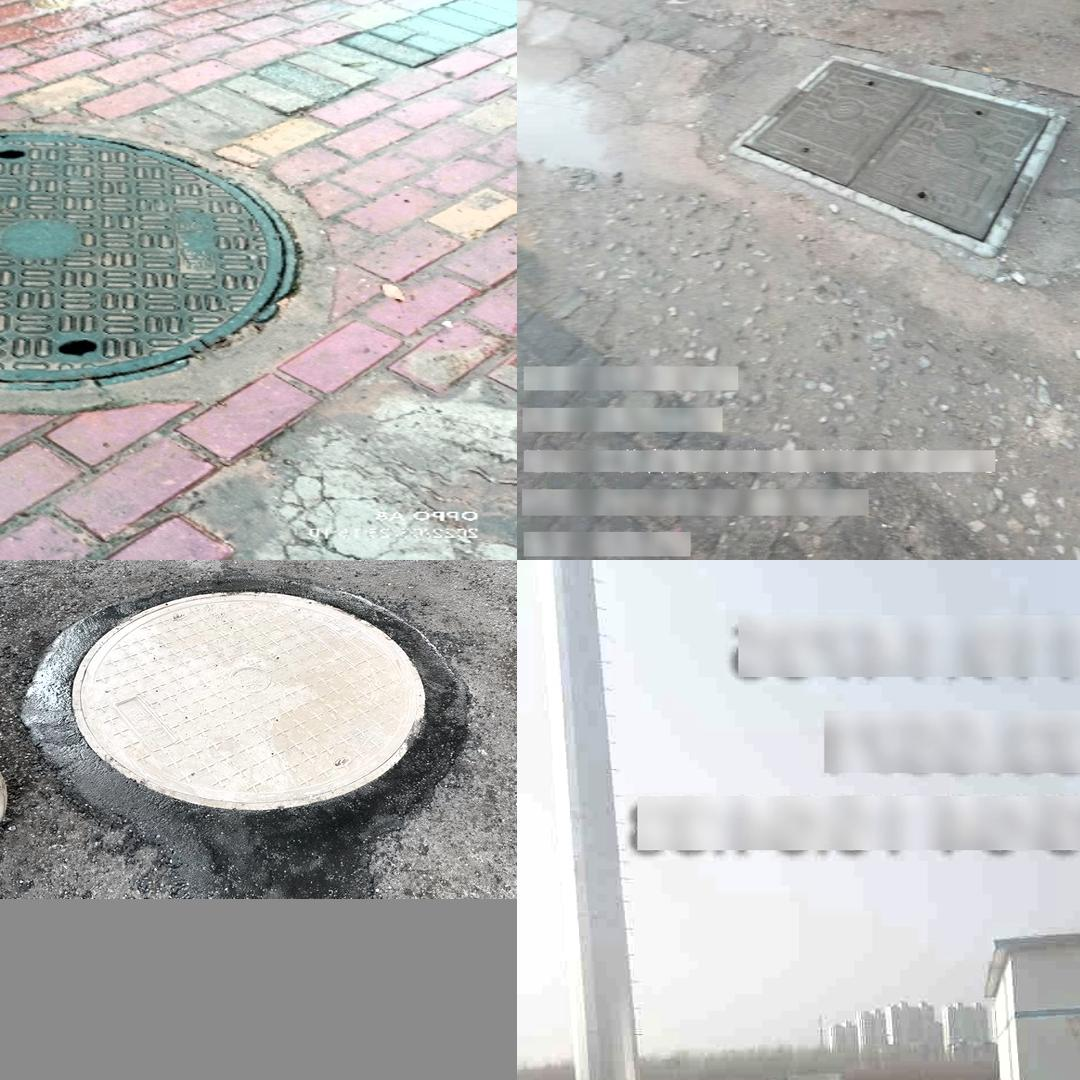good: (15, 571, 479, 863), (0, 131, 296, 390), (727, 52, 1063, 258)
